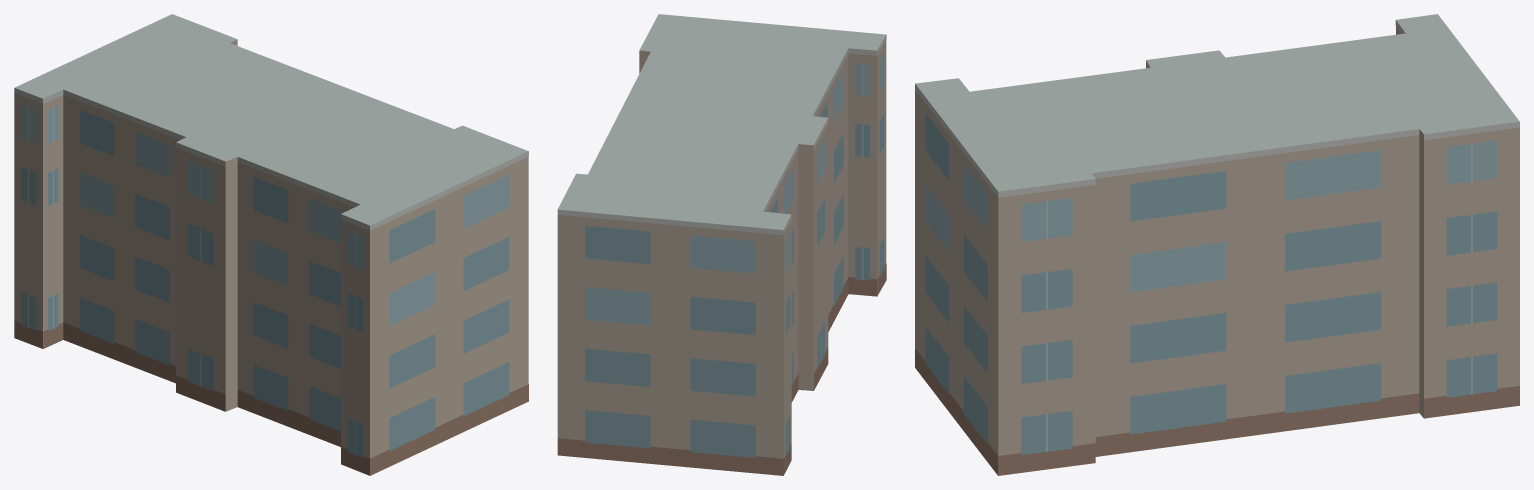
File: survey-upis-32534903.glb
3 views of the same model, side by side, from view 1: azimuth 30°, elevation 25°; view 2: azimuth 150°, elevation 25°; view 3: azimuth 270°, elevation 25° (orthographic). The views are drawn at different scales.
Parts seen in each view (by area): view 1: survey-upis-32534903.tmp; view 2: survey-upis-32534903.tmp; view 3: survey-upis-32534903.tmp.
Part boxes in pixels (x1,y1,x2,y2): survey-upis-32534903.tmp: (14,14,528,475); survey-upis-32534903.tmp: (557,14,886,475); survey-upis-32534903.tmp: (915,14,1519,475).
Size of the model in its own units: 15.6 by 11.62 by 22.43.
